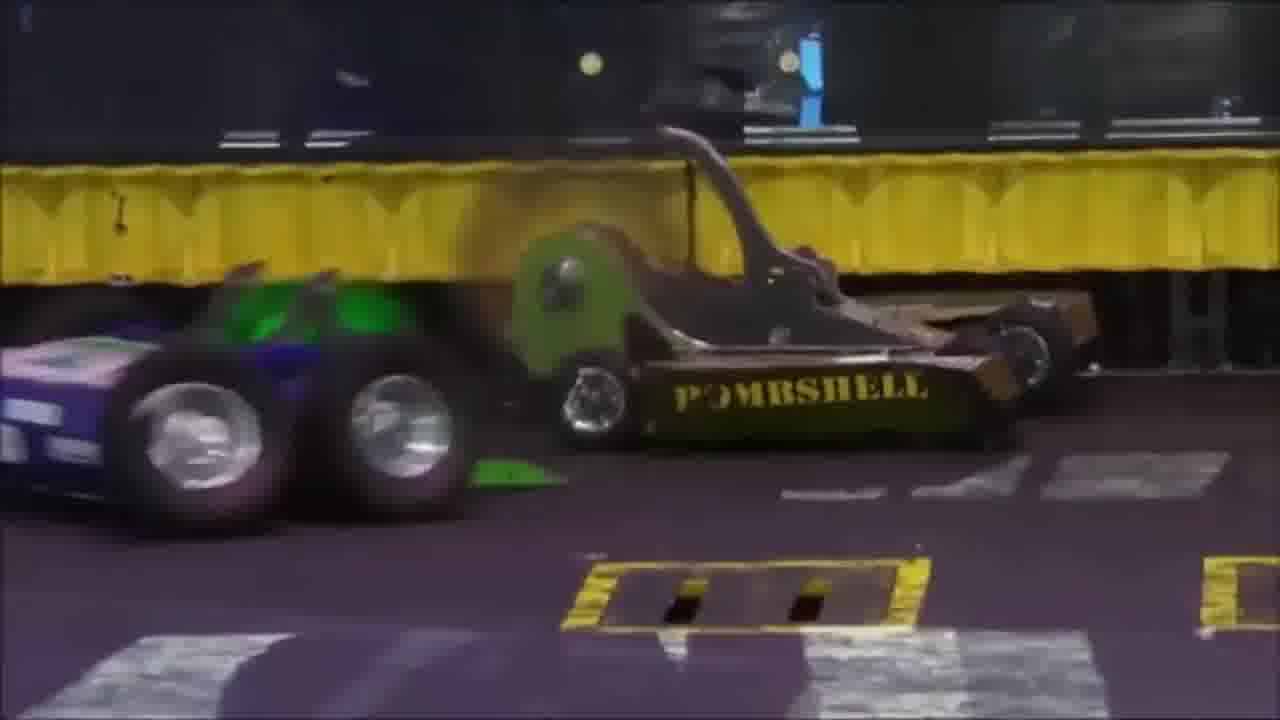combatbot: (0, 257, 574, 527), (510, 286, 1102, 459)
